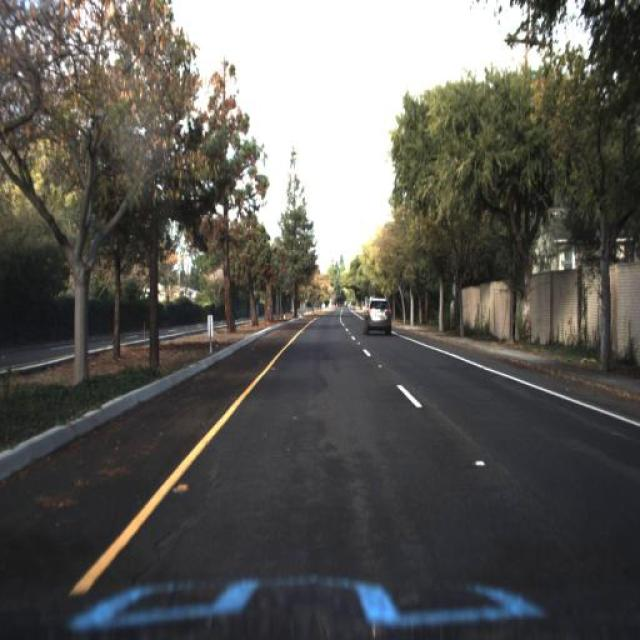car: (363, 296, 393, 336)
